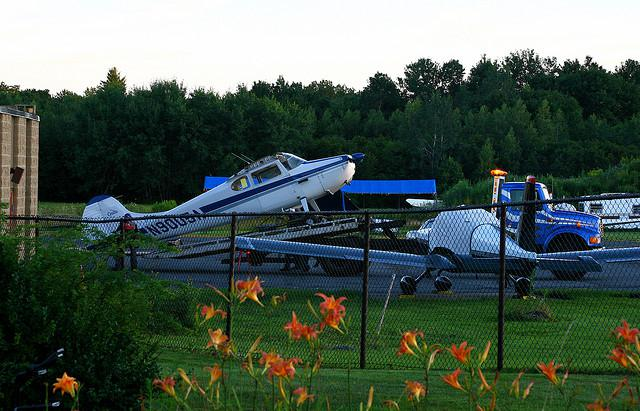Airplane: (81, 153, 367, 252), (236, 211, 640, 276)
